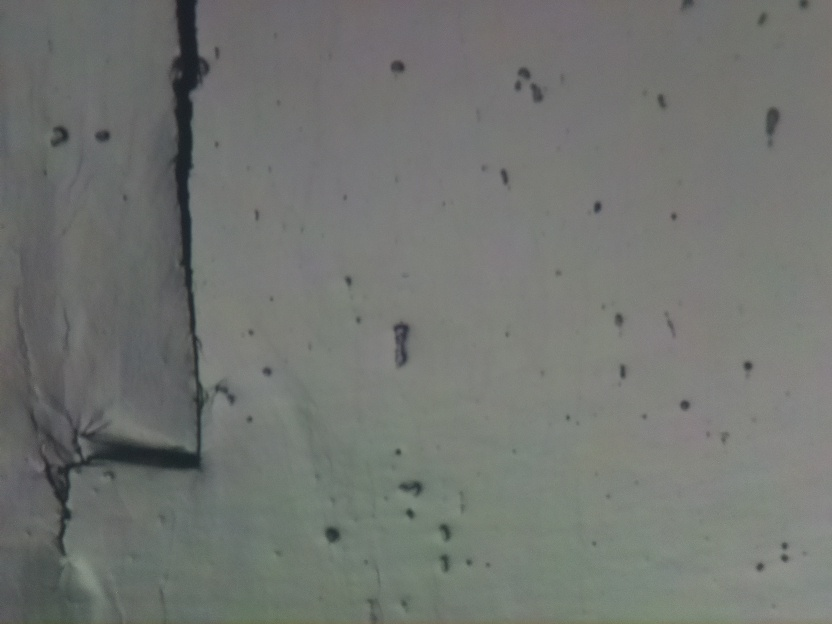crack: (173, 0, 212, 460), (36, 400, 106, 555)
